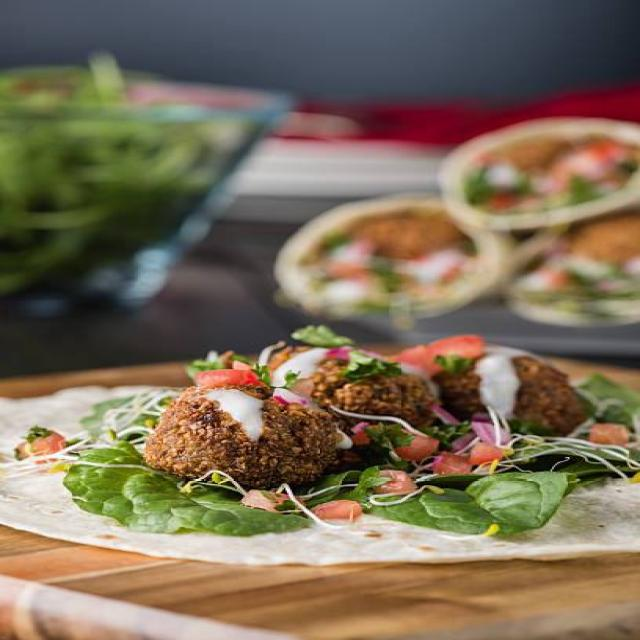taamia: (132, 334, 586, 499)
